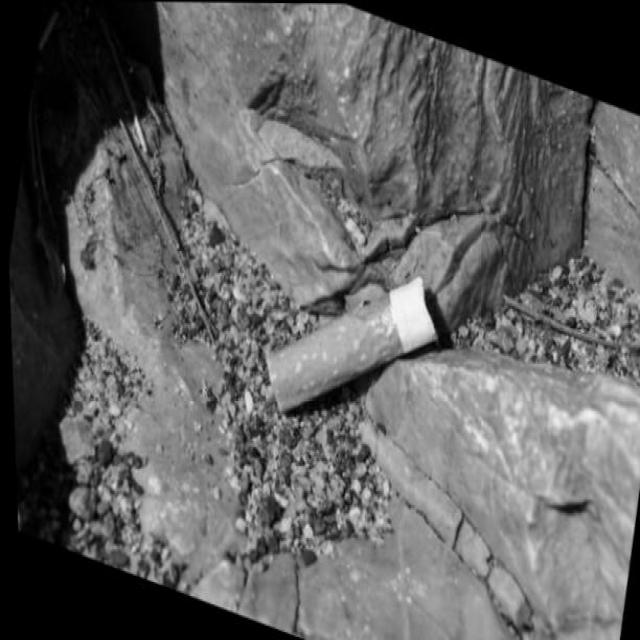cigarette: (250, 218, 451, 467)
